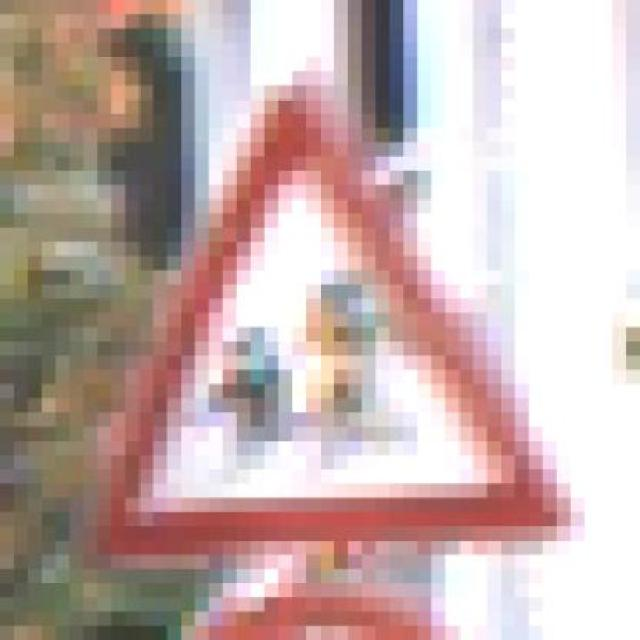Beware of children: (56, 85, 570, 569)
